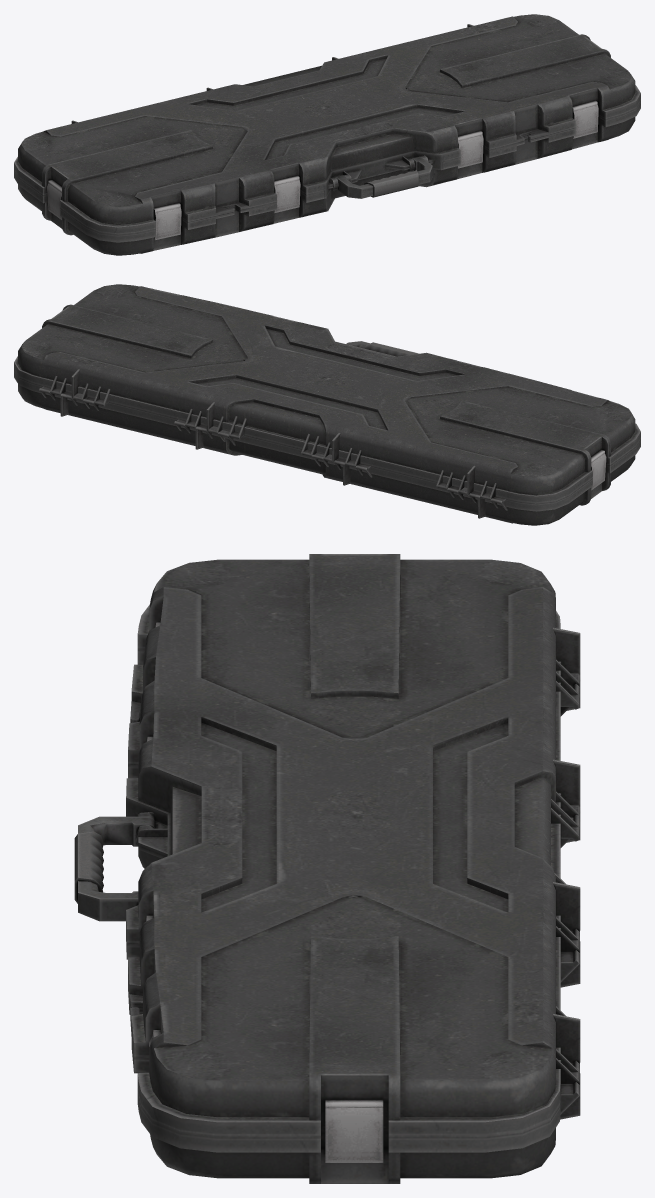
The model's file is RifleCase.fbx.
The picture shows the model from 3 angles, top to bottom: view 1: azimuth 30°, elevation 25°; view 2: azimuth 150°, elevation 25°; view 3: azimuth 270°, elevation 25°; orthographic projection. The views are drawn at different scales.
Parts seen in each view (by area): view 1: RifleCase; view 2: RifleCase; view 3: RifleCase.
Part boxes in pixels (bbox=[...]): RifleCase: bbox=[14, 14, 640, 255]; RifleCase: bbox=[14, 284, 640, 525]; RifleCase: bbox=[74, 554, 580, 1183].
Bounding box in the file's own units: 0.6058 × 0.0572 × 0.2413.
